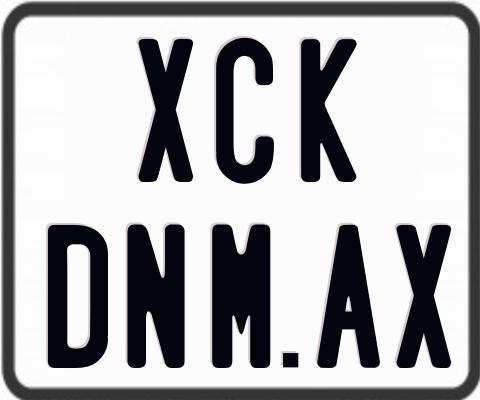A: (314, 223, 382, 367)
C: (215, 38, 273, 189)
D: (45, 222, 109, 368)
K: (301, 37, 360, 185)
M: (211, 221, 271, 367)
N: (127, 222, 190, 371)
X: (136, 39, 197, 183), (395, 223, 451, 369)
